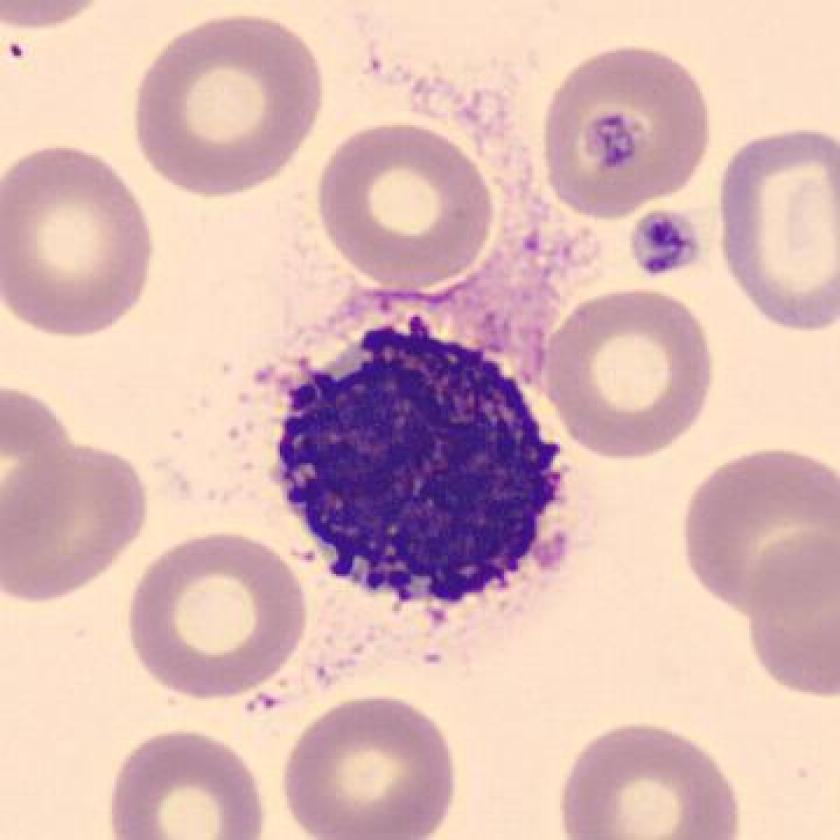basophil: (276, 316, 573, 619)
